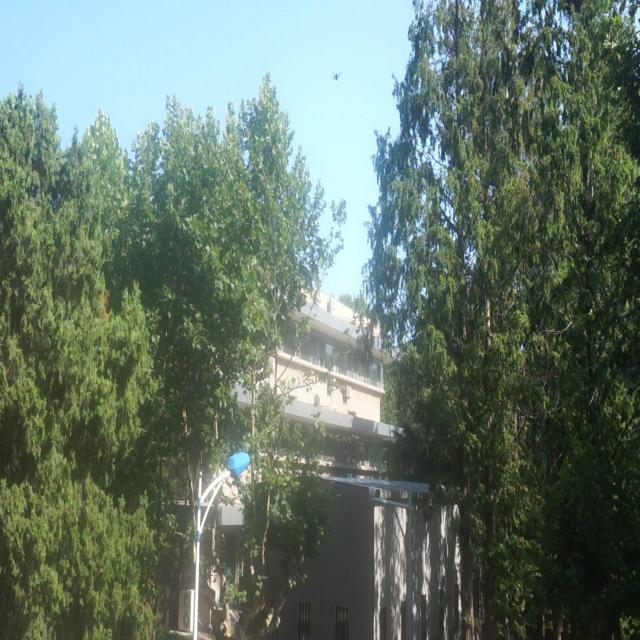UAV: (332, 72, 341, 81)
